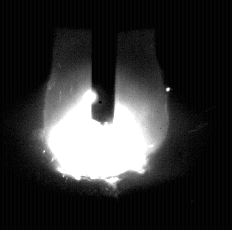arame: (92, 0, 115, 125)
poca: (44, 0, 171, 230)
